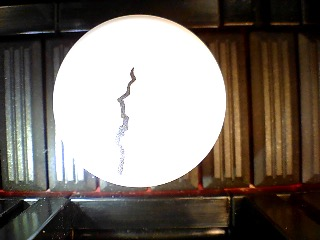CRACK: (52, 14, 227, 188)
